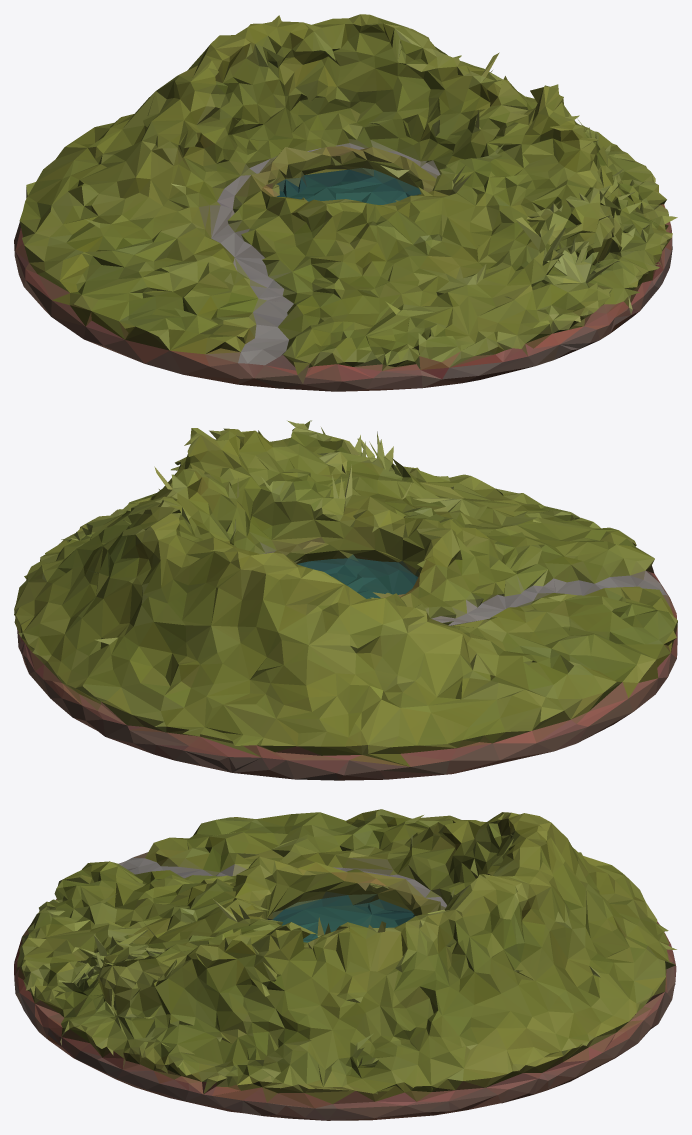
The model's file is island_snow.glb.
The picture shows the model from 3 angles, top to bottom: view 1: azimuth 30°, elevation 25°; view 2: azimuth 150°, elevation 25°; view 3: azimuth 270°, elevation 25°; orthographic projection.
Visible parts, largest first — view 1: island_snow; view 2: island_snow; view 3: island_snow.
Part boxes in pixels (x1,y1,x2,y2): island_snow: (14, 14, 677, 391); island_snow: (14, 420, 677, 780); island_snow: (14, 809, 676, 1120).
Size of the model in its own units: 0.9828 by 0.2578 by 0.9798.
Materials: 1 (1 with a texture image).
